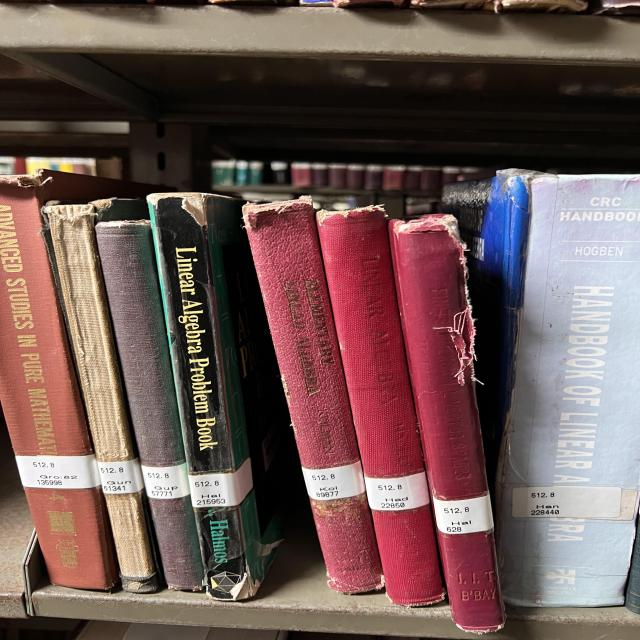Book: (442, 170, 640, 606), (0, 171, 163, 589), (147, 192, 290, 600), (243, 196, 383, 594), (317, 208, 445, 606), (390, 215, 505, 632), (45, 204, 158, 592), (95, 220, 203, 591)
Label: (512, 486, 622, 519), (188, 458, 253, 508), (15, 454, 102, 489), (365, 472, 430, 511), (302, 461, 365, 500), (433, 495, 493, 534), (142, 462, 190, 499), (97, 459, 143, 494)
